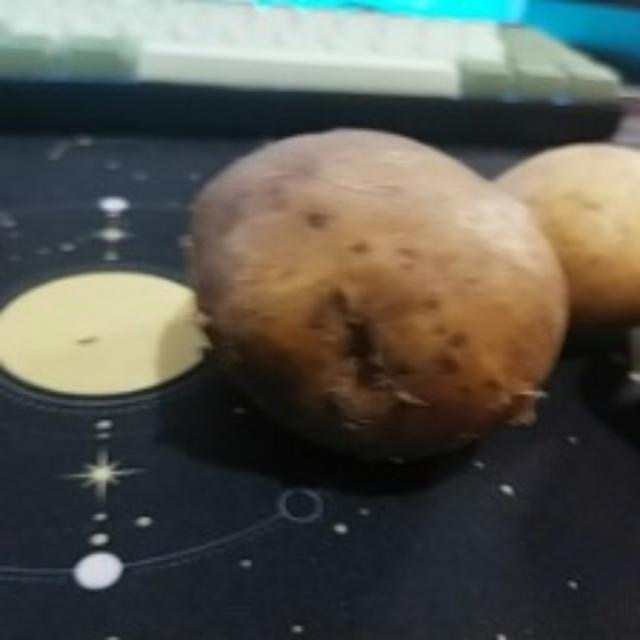Damaged potato: (189, 122, 571, 478)
Potato: (458, 142, 640, 330)
